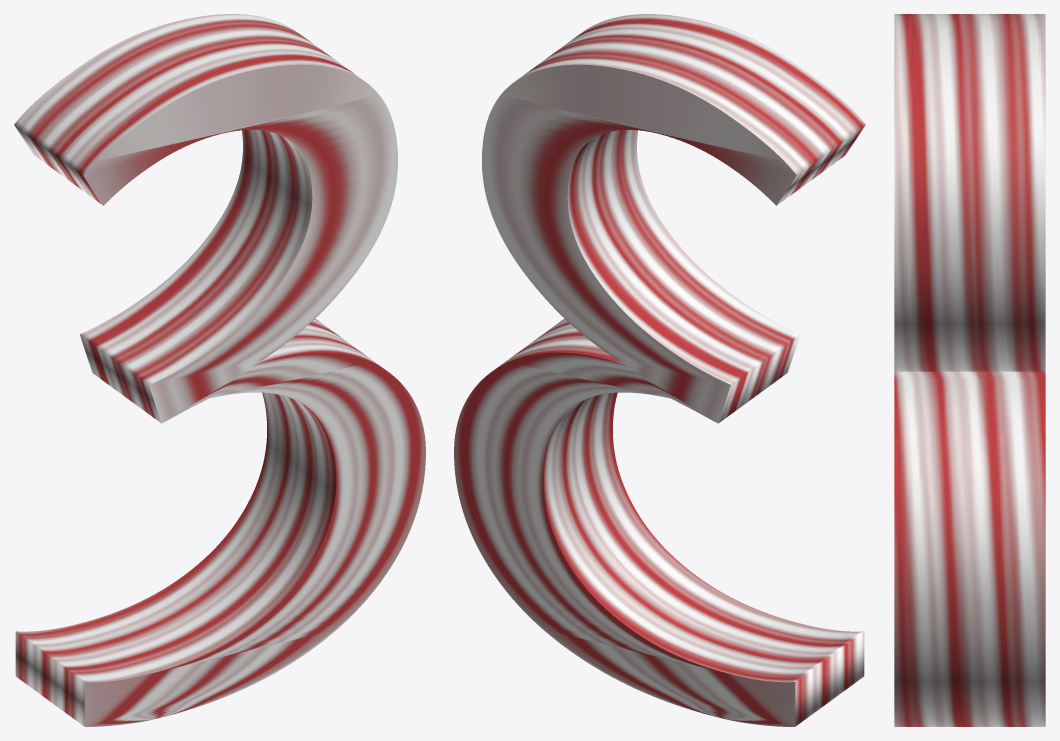
3 renders of one model, left to right at view 1: azimuth 30°, elevation 25°; view 2: azimuth 150°, elevation 25°; view 3: azimuth 270°, elevation 25°, orthographic. The views are drawn at different scales.
Parts seen in each view (by area): view 1: Text.010; view 2: Text.010; view 3: Text.010.
Part boxes in pixels (box(x1,y1,x2,y2)): Text.010: box(14, 14, 425, 726); Text.010: box(454, 14, 865, 726); Text.010: box(894, 14, 1045, 726).
Size of the model in its own units: 0.3429 by 0.5976 by 0.12.
1 material, 1 textured.
